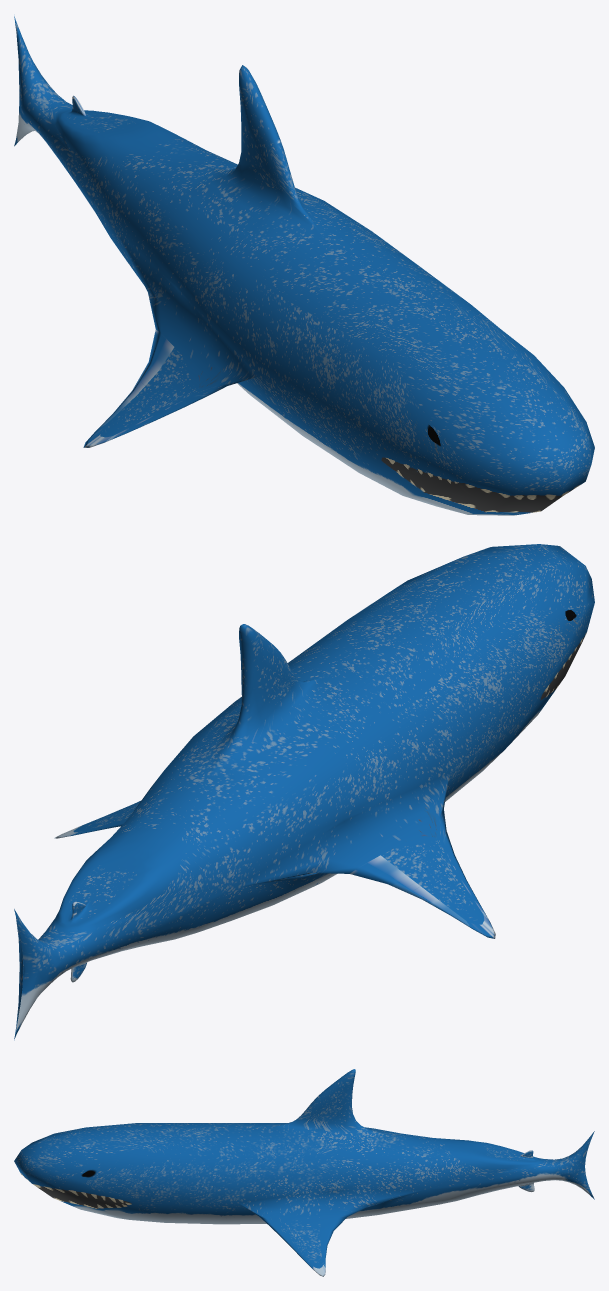
File: tutu.obj
The picture shows the model from 3 angles, top to bottom: view 1: azimuth 30°, elevation 25°; view 2: azimuth 150°, elevation 25°; view 3: azimuth 270°, elevation 25°; orthographic projection. The views are drawn at different scales.
Parts seen in each view (by area): view 1: Cube; view 2: Cube; view 3: Cube.
Boxes of the visible parts, bbox=[...] form: Cube: bbox=[14, 16, 594, 515]; Cube: bbox=[14, 544, 594, 1040]; Cube: bbox=[14, 1069, 594, 1276].
Bounding box in the file's own units: 6.56 × 4.41 × 14.79.
Materials: 1 (1 with a texture image).
